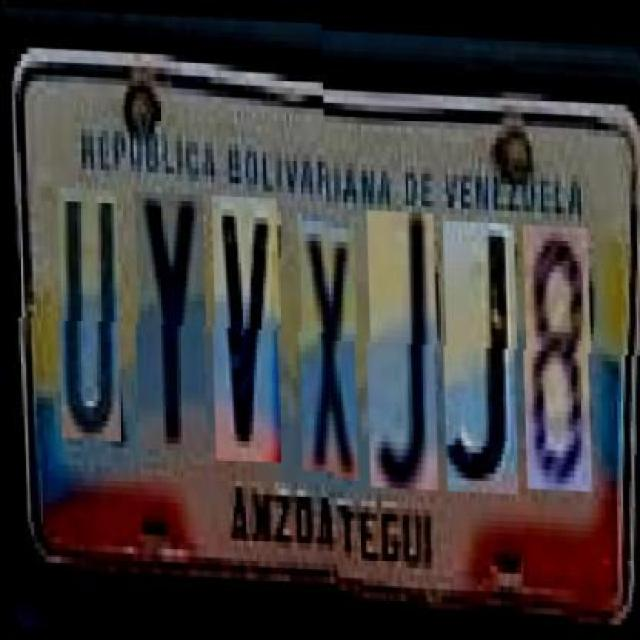8: (520, 212, 592, 480)
j: (442, 209, 518, 483), (364, 199, 438, 479)
u: (56, 188, 121, 440)
v: (210, 192, 282, 460)
x: (297, 209, 358, 469)
y: (134, 190, 208, 450)
